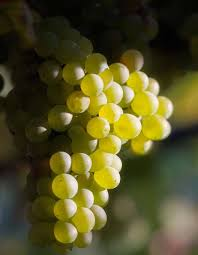Green grapes: (25, 24, 169, 247)
